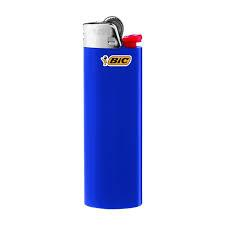lighter: (84, 15, 143, 209)
